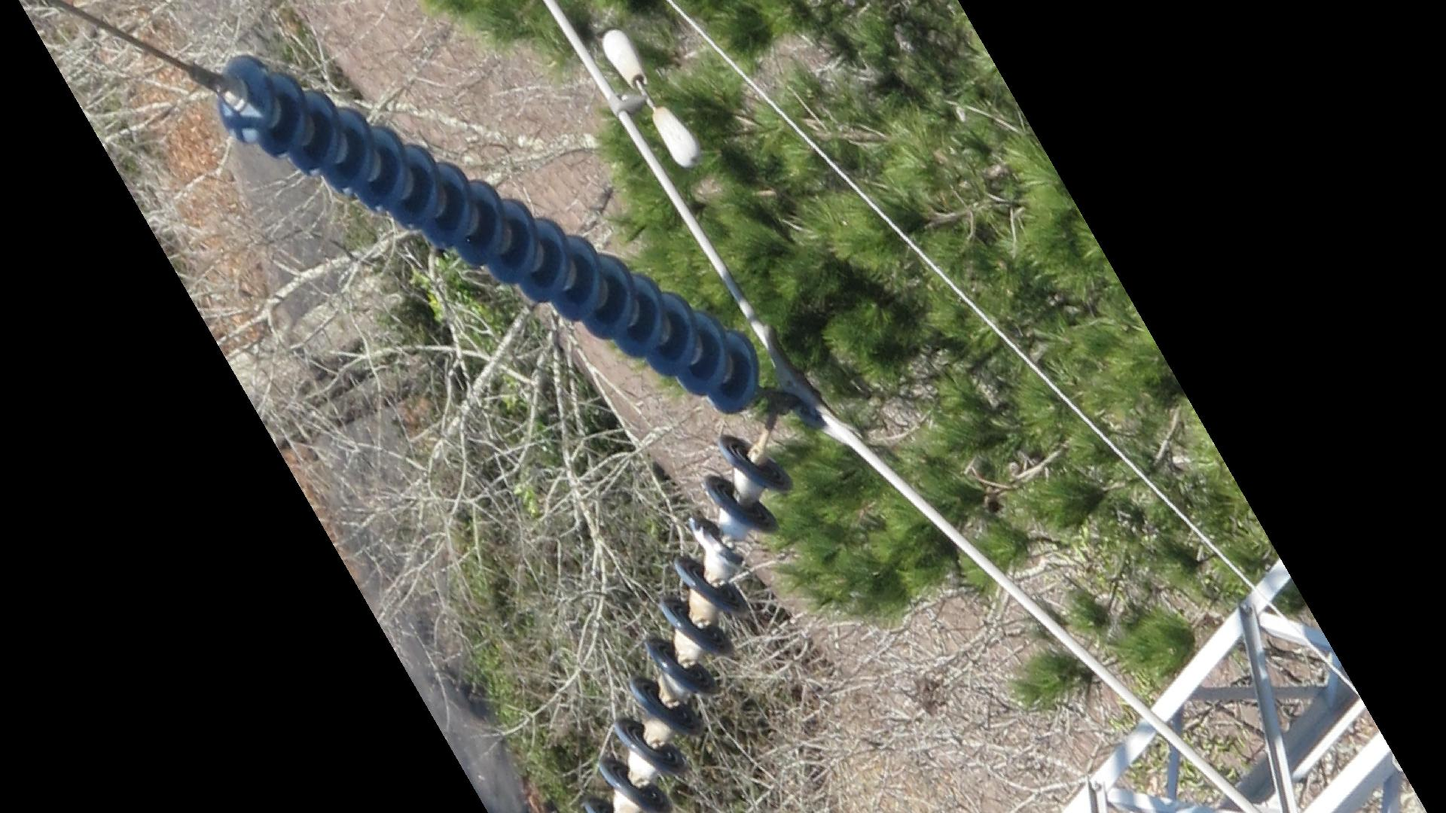insulator: (217, 48, 763, 419), (577, 428, 798, 813)
insulator_breakage: (681, 507, 743, 578)
